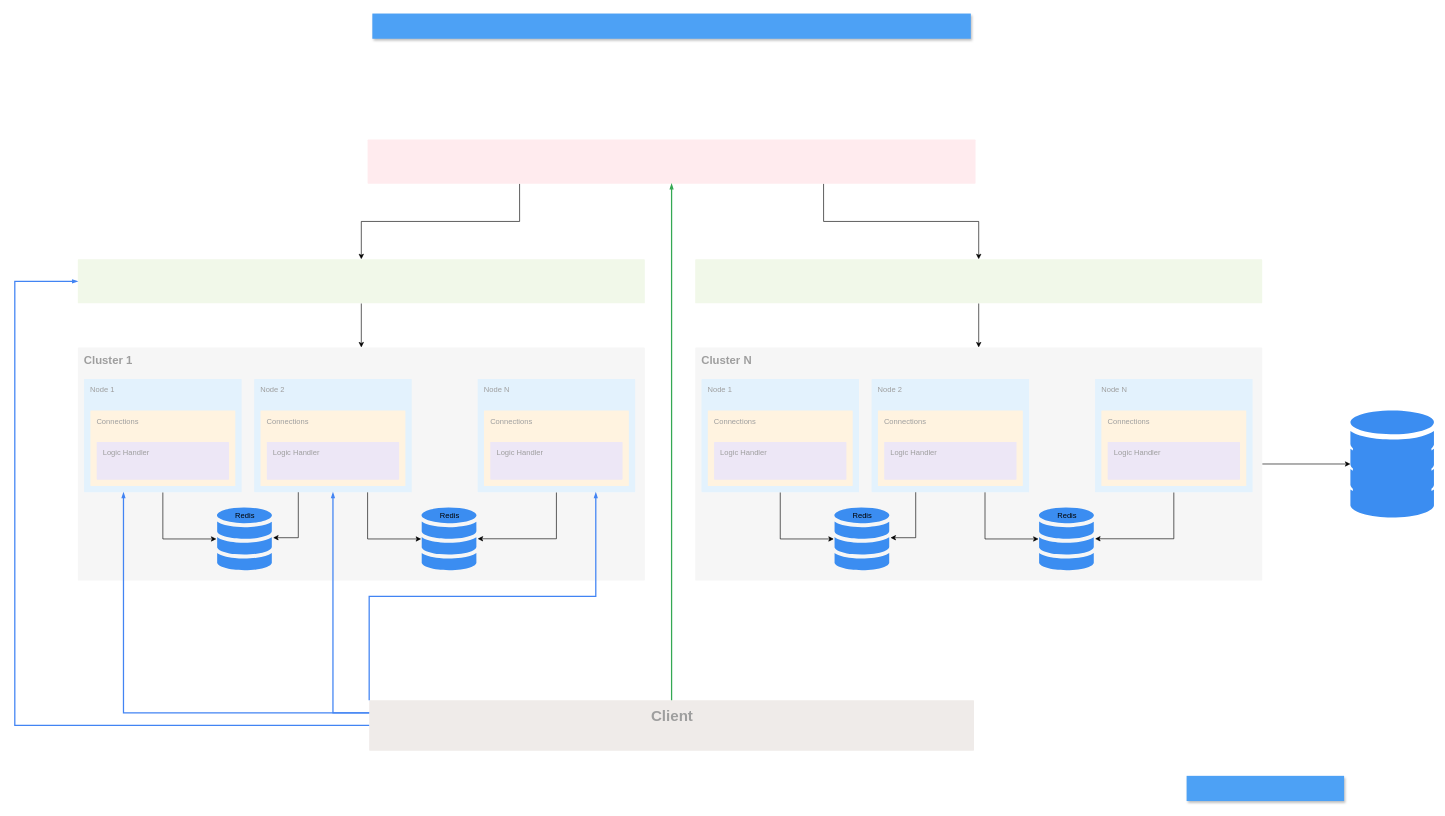
The diagram is 1445 pixels wide and 816 high, and some of its shapes have lost their labels. The centre of each missing label's shape, as x and y in pixels:
"Architecture: Game Server" goes at point 671,27.
"io.github.congcoi123.tenio" goes at point 1266,789.
"Master 1" goes at point 360,281.
"Master N" goes at point 978,281.
"RDS" goes at point 1392,463.
"World" goes at point 671,161.
